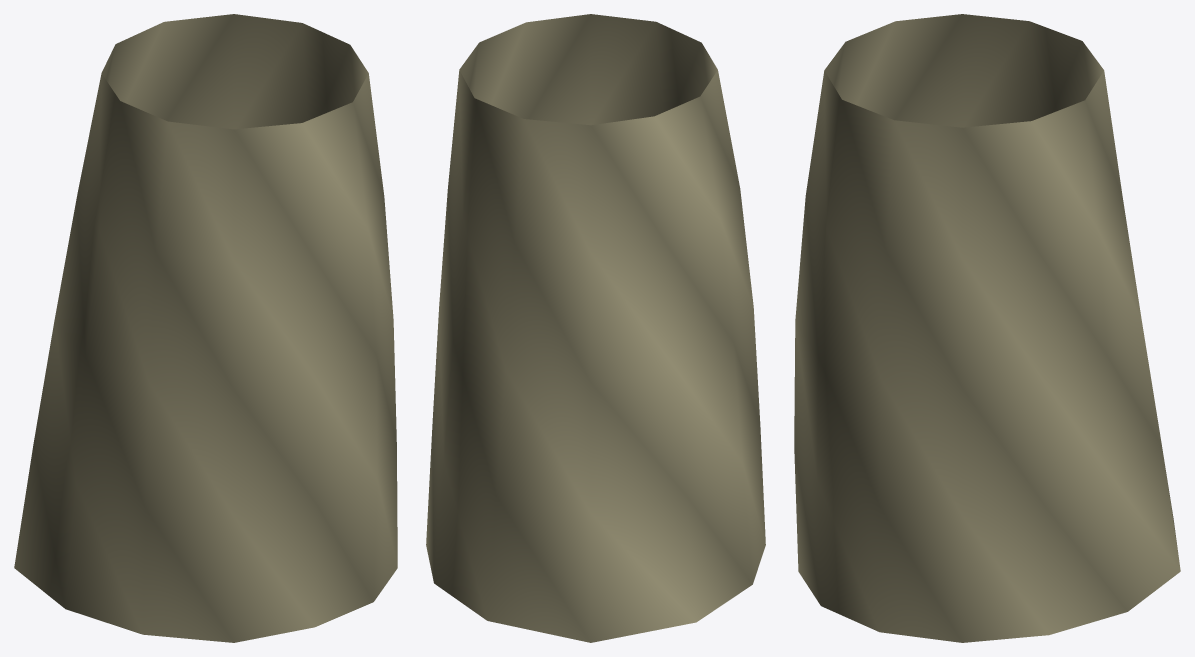
The model's file is tin_armor_cuisse.R.glb.
The picture shows the model from 3 angles, left to right: view 1: azimuth 30°, elevation 25°; view 2: azimuth 150°, elevation 25°; view 3: azimuth 270°, elevation 25°; orthographic projection. The views are drawn at different scales.
Visible parts, largest first — view 1: tin_armor_cuisse.R; view 2: tin_armor_cuisse.R; view 3: tin_armor_cuisse.R.
Boxes of the visible parts, x1,y1,x2,y2 form: tin_armor_cuisse.R: (14, 14, 397, 642); tin_armor_cuisse.R: (426, 14, 765, 642); tin_armor_cuisse.R: (794, 14, 1180, 642).
Size of the model in its own units: 0.2449 by 0.37 by 0.2586.
